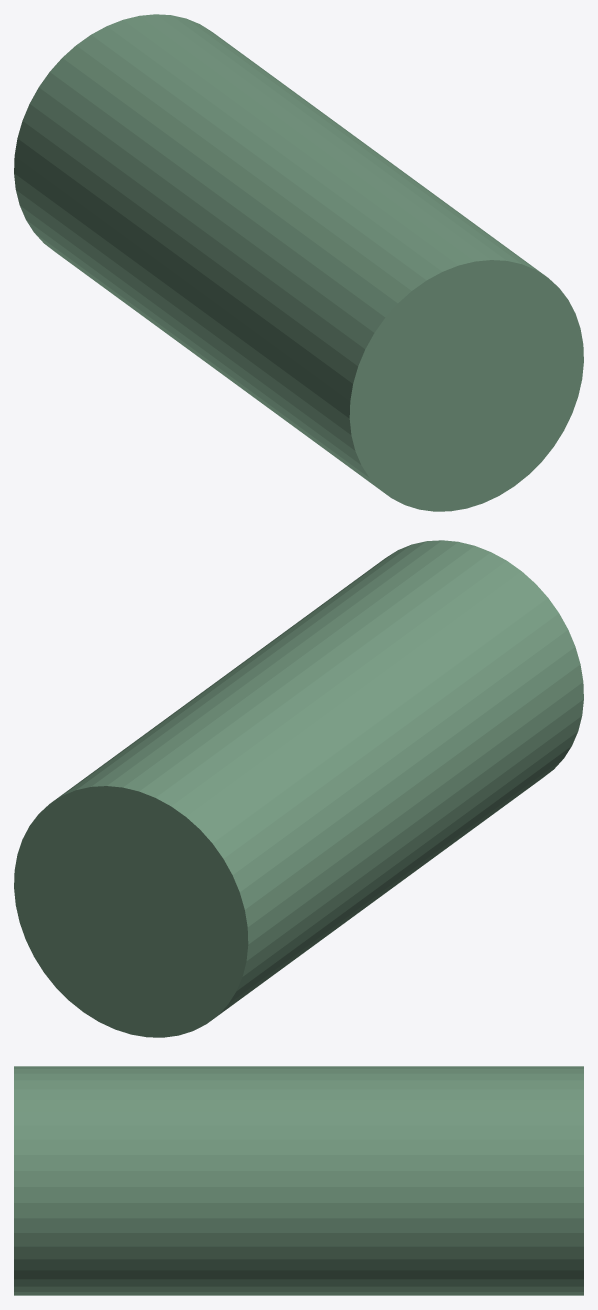
The model's file is peg_50_body.obj.
3 views of the same model, one above another, from view 1: azimuth 30°, elevation 25°; view 2: azimuth 150°, elevation 25°; view 3: azimuth 270°, elevation 25° (orthographic). The views are drawn at different scales.
Visible parts, largest first — view 1: geometry_0; view 2: geometry_0; view 3: geometry_0.
Boxes of the visible parts, x1,y1,x2,y2 form: geometry_0: (14, 14, 583, 511); geometry_0: (14, 540, 583, 1037); geometry_0: (14, 1066, 583, 1295).
Size of the model in its own units: 0.0403 by 0.0403 by 0.1.
